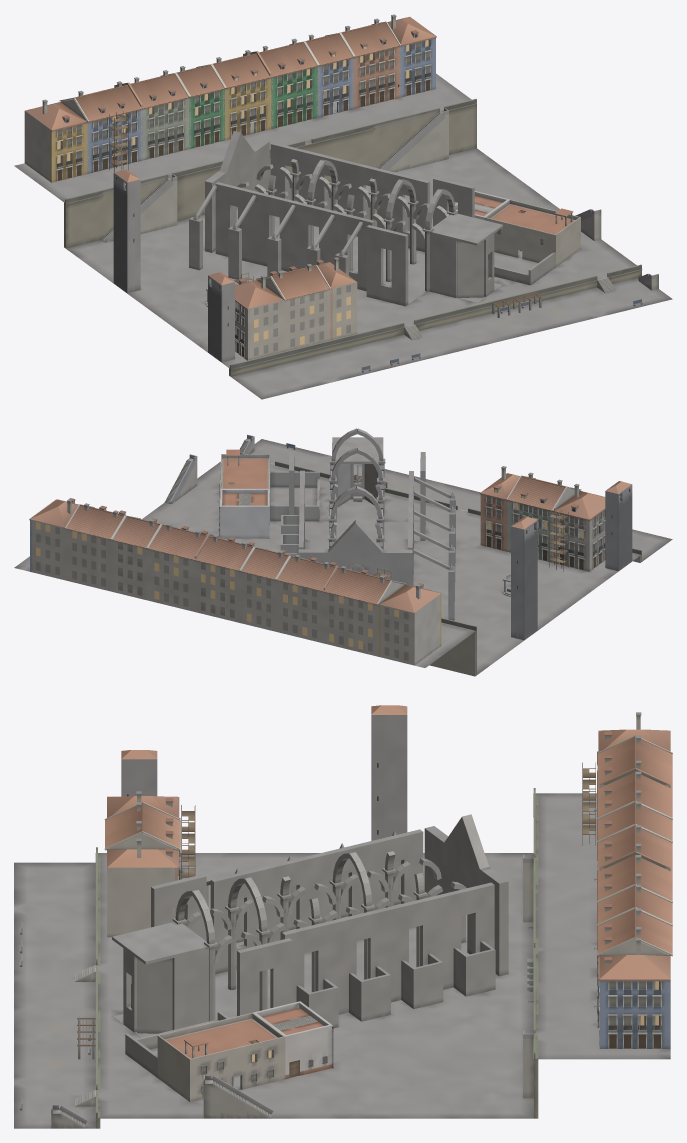
The model's file is carmo.glb.
3 views of the same model, one above another, from view 1: azimuth 30°, elevation 25°; view 2: azimuth 150°, elevation 25°; view 3: azimuth 270°, elevation 25° (orthographic). The views are drawn at different scales.
Visible parts, largest first — view 1: ground_carmo_square, ground_carmo_lookout, ground_carmo_high, carmo_ruin_6, carmo_watch_house, carmo_ruin_7, carmo_ruin_5, carmo_ruin_2, carmo_ruin_3, carmo_h_2, carmo_h_1, carmo_ruin_4 (+31 smaller); view 2: ground_carmo_square, carmo_h_2, carmo_h_1, carmo_h_5, carmo_h_8, carmo_h_6, carmo_h_3, carmo_watch_house, ground_carmo_lookout, carmo_s_1, carmo_ruin_1, stairs_towers_4 (+19 smaller); view 3: ground_carmo_square, ground_carmo_lookout, ground_carmo_high, carmo_ruin_4, carmo_watch_house, carmo_ruin_3, carmo_ruin_2, carmo_ruin_5, carmo_ruin_7, carmo_ruin_6, carmo_h_9, carmo_ruin_1 (+20 smaller).
Boxes of the visible parts, x1,y1,x2,y2 form: ground_carmo_square: (66,148,636,367); ground_carmo_lookout: (231,277,672,399); ground_carmo_high: (14,73,471,202); carmo_ruin_6: (366,177,474,306); carmo_watch_house: (484,199,580,285); carmo_ruin_7: (429,213,502,302); carmo_ruin_5: (333,171,429,291); carmo_ruin_2: (215,142,311,263); carmo_ruin_3: (254,152,351,271); carmo_h_2: (59,81,143,173); carmo_h_1: (24,99,87,182); carmo_ruin_4: (294,162,390,270); ground_carmo_square: (142,462,640,674); carmo_h_2: (322,565,406,656); carmo_h_1: (378,583,441,665); carmo_h_5: (194,534,254,623); carmo_h_8: (65,503,125,591); carmo_h_6: (147,523,208,611); carmo_h_3: (276,555,337,643); carmo_watch_house: (219,449,319,521); ground_carmo_lookout: (251,439,672,561); carmo_s_1: (553,484,605,571); carmo_ruin_1: (298,520,412,585); stairs_towers_4: (511,516,537,640); ground_carmo_square: (96,853,533,1118); ground_carmo_lookout: (14,862,95,1128); ground_carmo_high: (535,793,670,1059); carmo_ruin_4: (263,854,390,1021); carmo_watch_house: (125,1011,285,1101); carmo_ruin_3: (315,842,443,1008); carmo_ruin_2: (368,829,495,996); carmo_ruin_5: (210,867,338,1027); carmo_ruin_7: (112,922,209,1037); carmo_ruin_6: (151,874,292,1021); carmo_h_9: (597,938,670,1048); carmo_ruin_1: (424,814,508,976).
Bounding box in the file's own units: 115 × 33.43 × 120.
